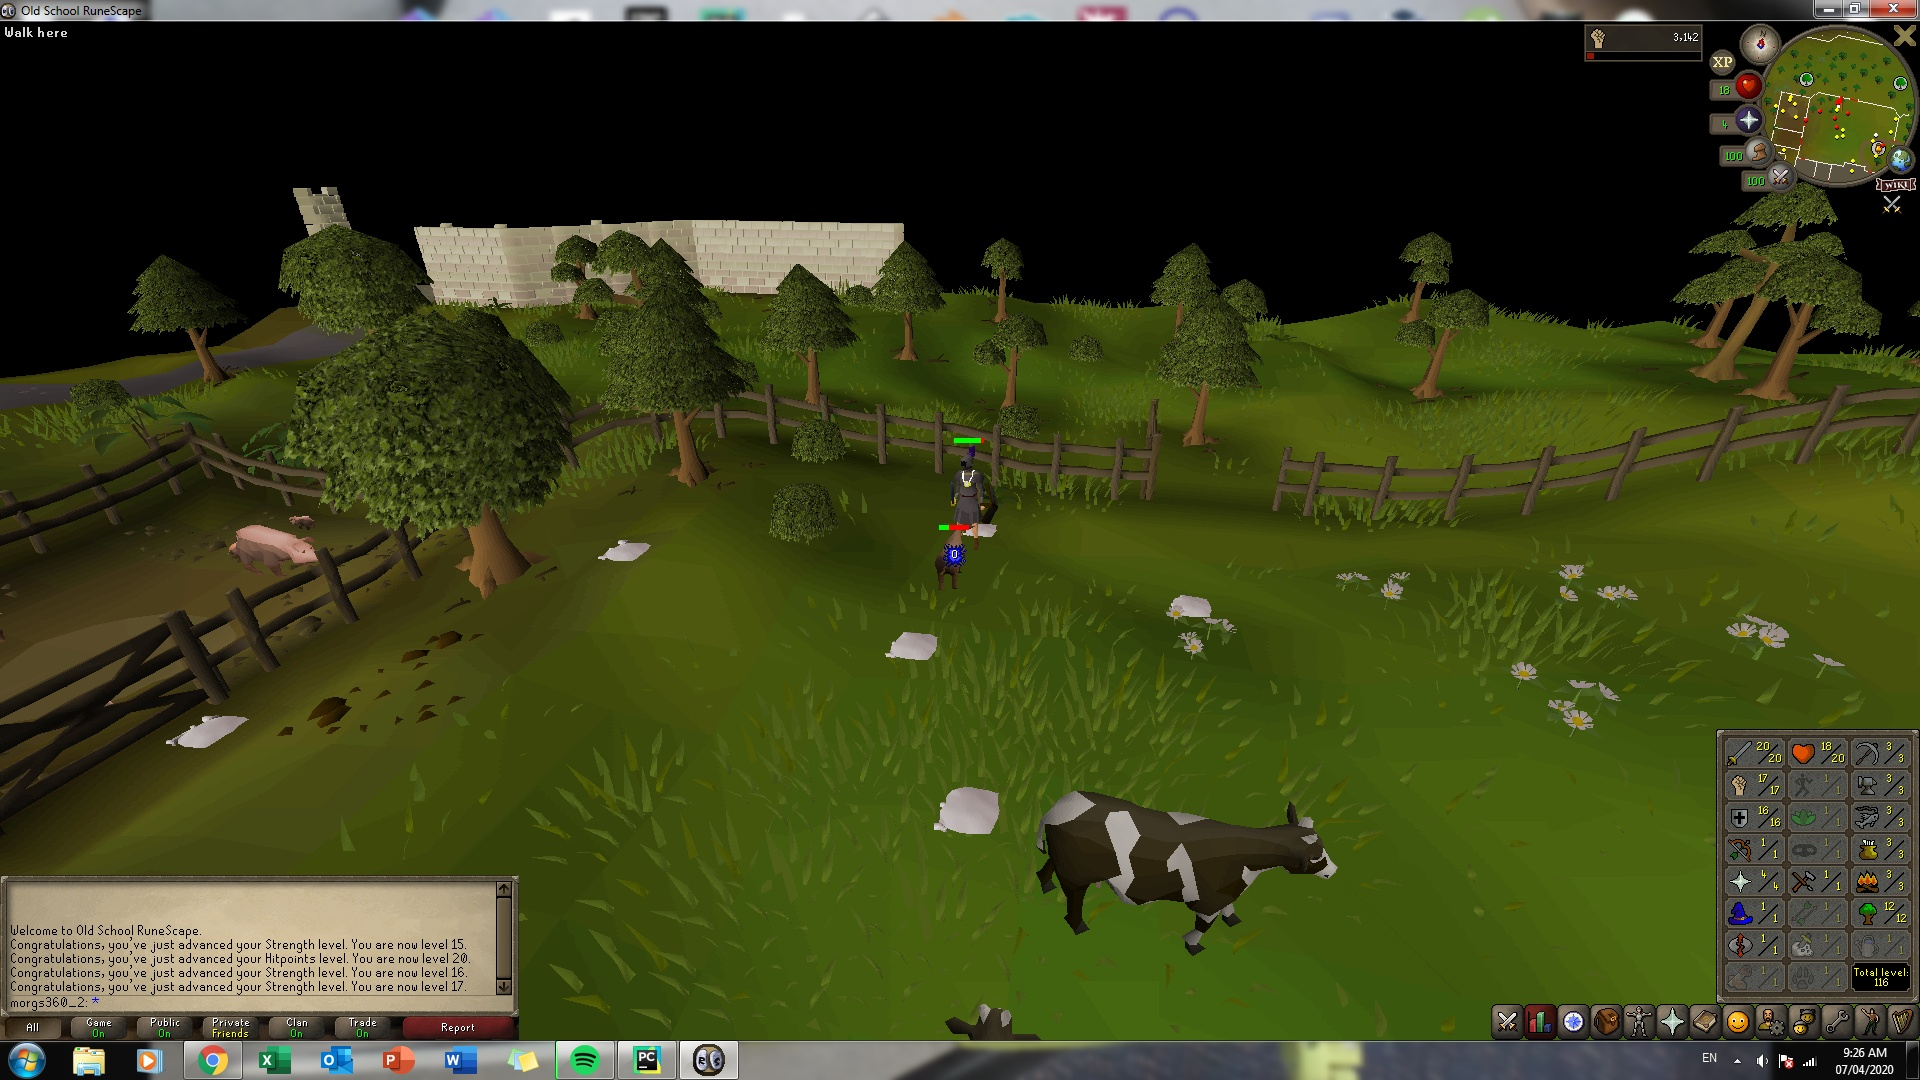cow: (1036, 770, 1340, 959), (933, 523, 968, 595)
player: (945, 446, 993, 528)
